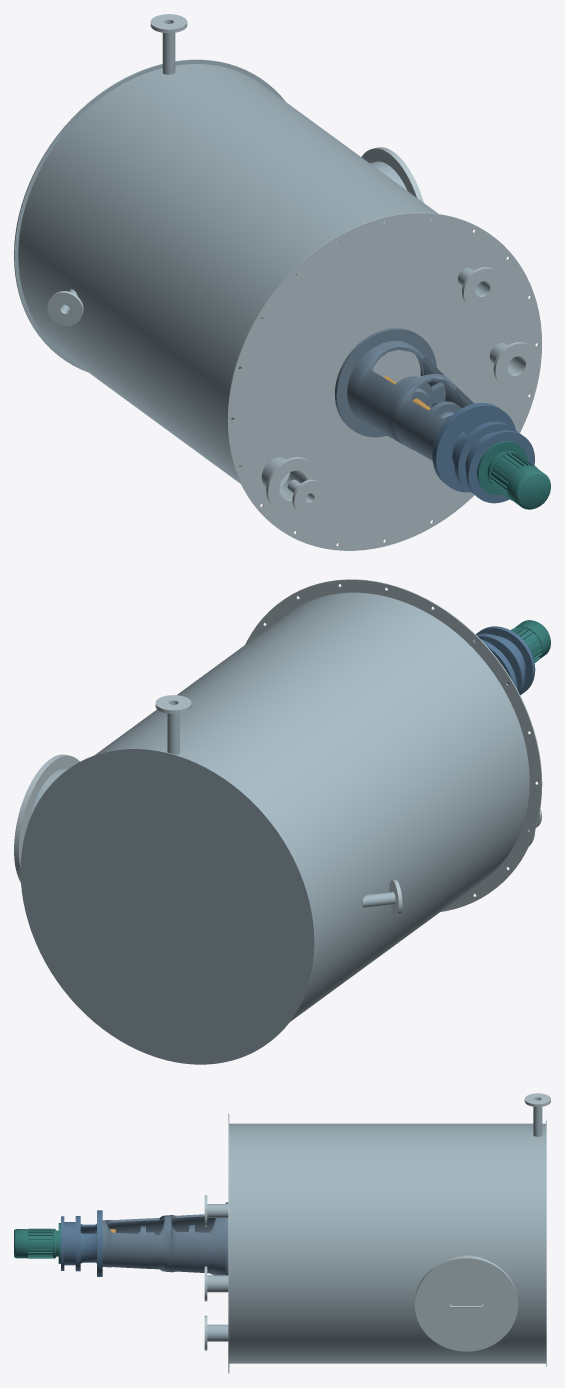
3 views of the same model, one above another, from view 1: azimuth 30°, elevation 25°; view 2: azimuth 150°, elevation 25°; view 3: azimuth 270°, elevation 25° (orthographic). The views are drawn at different scales.
Parts seen in each view (by area): view 1: 本体_钢壳, 盖面_开孔盖板, 搅拌_06_Tapered_window_frame_with_bored_seats, 搅拌_01_Motor, 搅拌_06_Frame_foot, 本体_底板, 搅拌_02_Base_flange_top, 搅拌_02_Upper_mount_flange, 接口_b法兰, 接口_c外套法兰, 接口_h法兰, 接口_d法兰 (+3 smaller); view 2: 本体_钢壳, 本体_底板, 盖面_开孔盖板, 接口_e法兰, 搅拌_02_Upper_mount_flange, 搅拌_01_Motor, 搅拌_02_Middle_flange_bottom, 接口_f法兰; view 3: 本体_钢壳, 接口_e_人孔盖, 搅拌_06_Tapered_window_frame_with_bored_seats, 搅拌_01_Motor, 搅拌_02_Upper_housing, 盖面_开孔盖板, 搅拌_02_Lower_housing_1, 接口_b接管, 接口_a接管.
Part boxes in pixels (left/top/right/bottom): 本体_钢壳: left=18, top=64, right=438, bottom=486; 盖面_开孔盖板: left=227, top=212, right=541, bottom=550; 搅拌_06_Tapered_window_frame_with_bored_seats: left=347, top=341, right=474, bottom=460; 搅拌_01_Motor: left=477, top=441, right=550, bottom=509; 搅拌_06_Frame_foot: left=334, top=328, right=436, bottom=437; 本体_底板: left=14, top=59, right=285, bottom=371; 搅拌_02_Base_flange_top: left=434, top=404, right=515, bottom=492; 搅拌_02_Upper_mount_flange: left=466, top=430, right=534, bottom=503; 接口_b法兰: left=493, top=342, right=537, bottom=388; 接口_c外套法兰: left=266, top=457, right=318, bottom=512; 接口_h法兰: left=462, top=267, right=502, bottom=309; 接口_d法兰: left=47, top=291, right=83, bottom=325; 本体_钢壳: left=95, top=592, right=529, bottom=1021; 本体_底板: left=20, top=748, right=314, bottom=1064; 盖面_开孔盖板: left=245, top=579, right=542, bottom=911; 接口_e法兰: left=15, top=755, right=79, bottom=879; 搅拌_02_Upper_mount_flange: left=476, top=626, right=535, bottom=695; 搅拌_01_Motor: left=514, top=620, right=550, bottom=660; 搅拌_02_Middle_flange_bottom: left=477, top=635, right=523, bottom=693; 接口_f法兰: left=155, top=695, right=191, bottom=713; 本体_钢壳: left=229, top=1123, right=545, bottom=1363; 接口_e_人孔盖: left=415, top=1257, right=517, bottom=1351; 搅拌_06_Tapered_window_frame_with_bored_seats: left=102, top=1214, right=225, bottom=1275; 搅拌_01_Motor: left=14, top=1223, right=60, bottom=1263; 搅拌_02_Upper_housing: left=64, top=1222, right=75, bottom=1265; 盖面_开孔盖板: left=228, top=1113, right=229, bottom=1373; 搅拌_02_Lower_housing_1: left=80, top=1233, right=96, bottom=1263; 接口_b接管: left=207, top=1275, right=228, bottom=1292; 接口_a接管: left=207, top=1324, right=228, bottom=1341.
Size of the model in its own units: 1.87 by 1.83 by 3.38.
